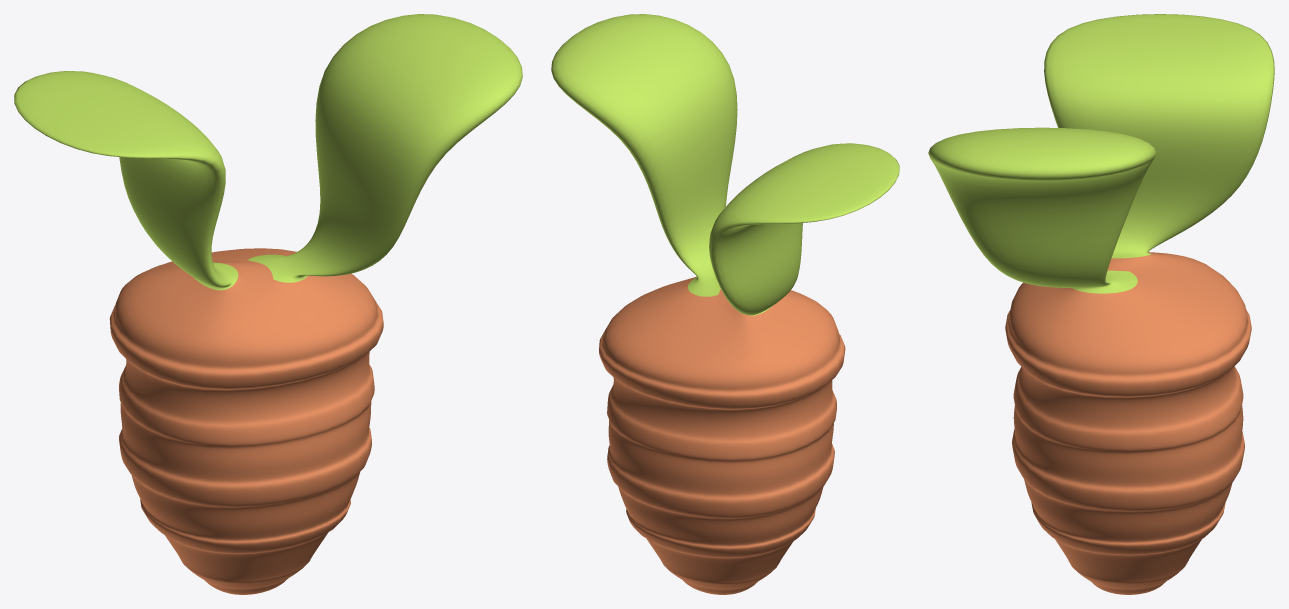
Rendered from Carrot3.fbx.
3 views of the same model, side by side, from view 1: azimuth 30°, elevation 25°; view 2: azimuth 150°, elevation 25°; view 3: azimuth 270°, elevation 25° (orthographic). The views are drawn at different scales.
Visible parts, largest first — view 1: Carrot.001; view 2: Carrot.001; view 3: Carrot.001.
Boxes of the visible parts, x1,y1,x2,y2 form: Carrot.001: (14,14,522,594); Carrot.001: (551,14,899,594); Carrot.001: (928,14,1274,594).
Bounding box in the file's own units: 39.43 × 50 × 30.
